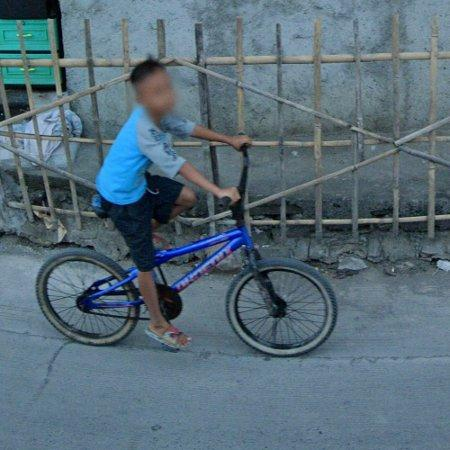bicycles: (154, 145, 338, 357), (36, 250, 148, 346)
